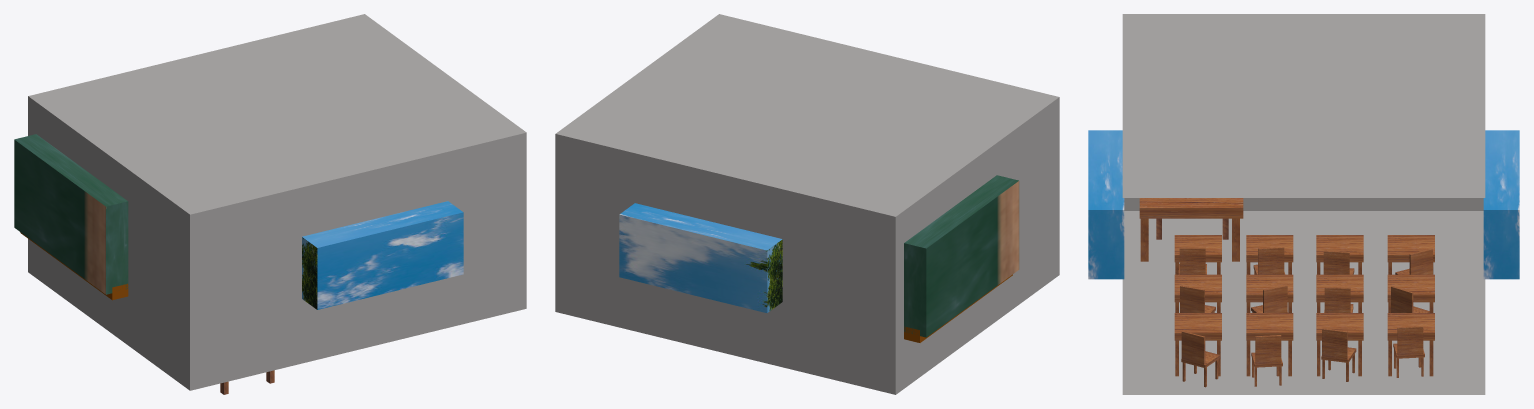
The model's file is classroom.glb.
3 views of the same model, side by side, from view 1: azimuth 30°, elevation 25°; view 2: azimuth 150°, elevation 25°; view 3: azimuth 270°, elevation 25° (orthographic). The views are drawn at different scales.
Visible parts, largest first — view 1: Cube, Cube.029, Cube.034; view 2: Cube, Cube.030, Cube.034; view 3: Cube, Cube.029, Cube.030, Cube.032, Cube.006, Cube.001, Cube.008, Cube.007, Cube.020, Cube.010, Cube.016, Cube.015 (+16 smaller).
Part boxes in pixels (x1,y1,x2,y2): Cube: (28, 14, 526, 390); Cube.029: (302, 201, 463, 309); Cube.034: (14, 134, 128, 294); Cube: (555, 14, 1059, 394); Cube.030: (619, 203, 782, 312); Cube.034: (904, 175, 1019, 337); Cube: (1122, 14, 1485, 394); Cube.029: (1088, 130, 1124, 279); Cube.030: (1483, 130, 1519, 279); Cube.032: (1139, 198, 1243, 261); Cube.006: (1246, 313, 1293, 376); Cube.001: (1174, 313, 1221, 376); Cube.008: (1316, 313, 1363, 376); Cube.007: (1387, 313, 1434, 376); Cube.020: (1181, 331, 1219, 387); Cube.010: (1387, 274, 1434, 312); Cube.016: (1316, 235, 1363, 274); Cube.015: (1387, 235, 1434, 274).
Size of the model in its own units: 25.58 by 13.38 by 23.81.
33 materials, 32 textured.
